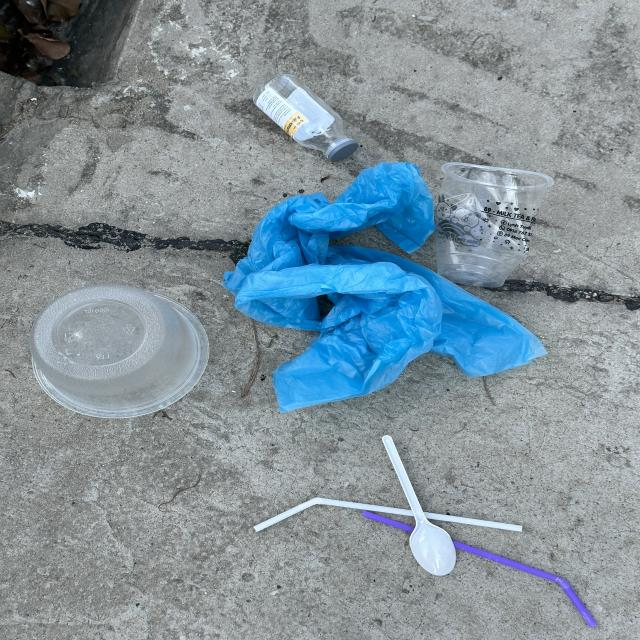bag: (221, 160, 548, 414)
bottle: (252, 74, 359, 164)
drinking straw: (362, 511, 598, 627), (253, 497, 522, 532)
plastic glass: (434, 161, 554, 288)
plastic holder: (31, 284, 210, 420)
plastic utensil: (382, 435, 458, 576)
